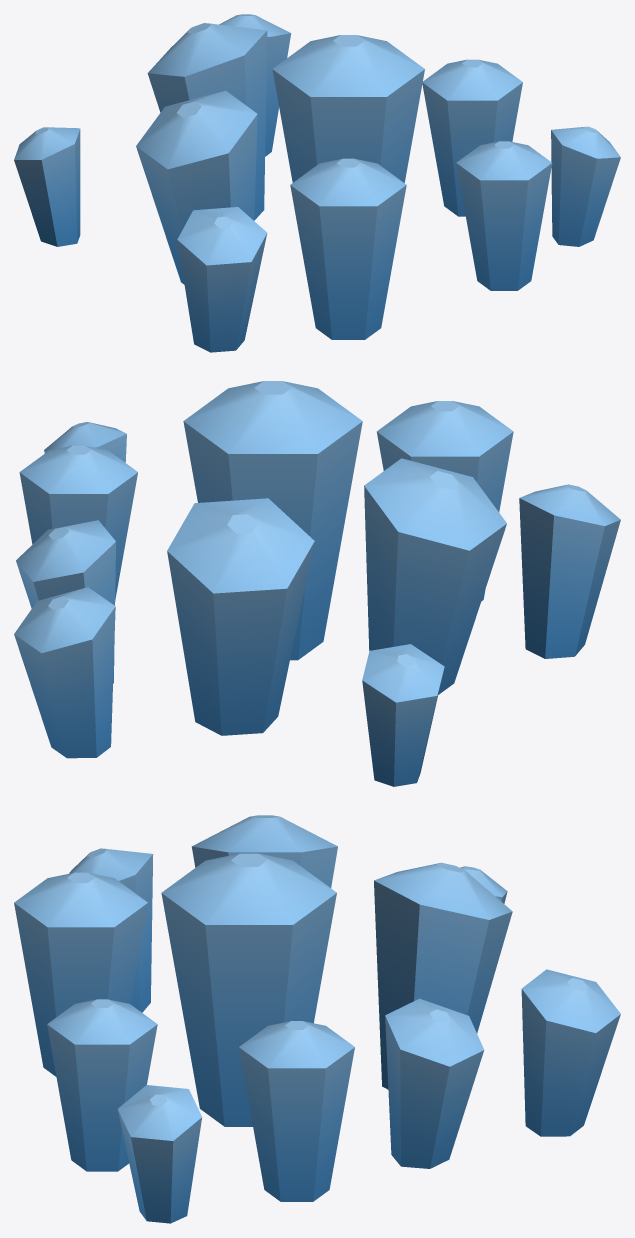
Rendered from CoralReef_03.fbx.
3 renders of one model, top to bottom at view 1: azimuth 30°, elevation 25°; view 2: azimuth 150°, elevation 25°; view 3: azimuth 270°, elevation 25°, orthographic. The views are drawn at different scales.
Parts seen in each view (by area): view 1: CoralReef_03_LOD0; view 2: CoralReef_03_LOD0; view 3: CoralReef_03_LOD0.
Boxes of the visible parts, x1,y1,x2,y2 form: CoralReef_03_LOD0: [14, 14, 620, 352]; CoralReef_03_LOD0: [14, 381, 620, 786]; CoralReef_03_LOD0: [14, 815, 620, 1223].
Size of what is drawn, in the model's own units: 0.2882 by 0.1279 by 0.283.
